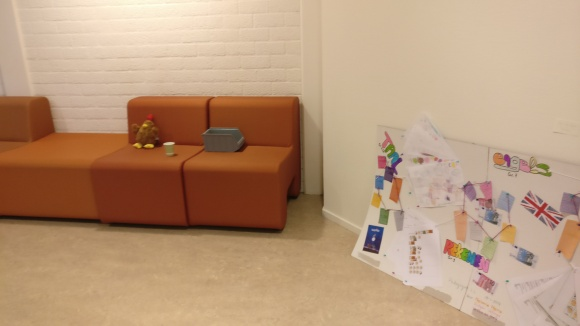chicken: (128, 113, 160, 150)
cup: (161, 140, 176, 157)
tray: (201, 126, 247, 153)
